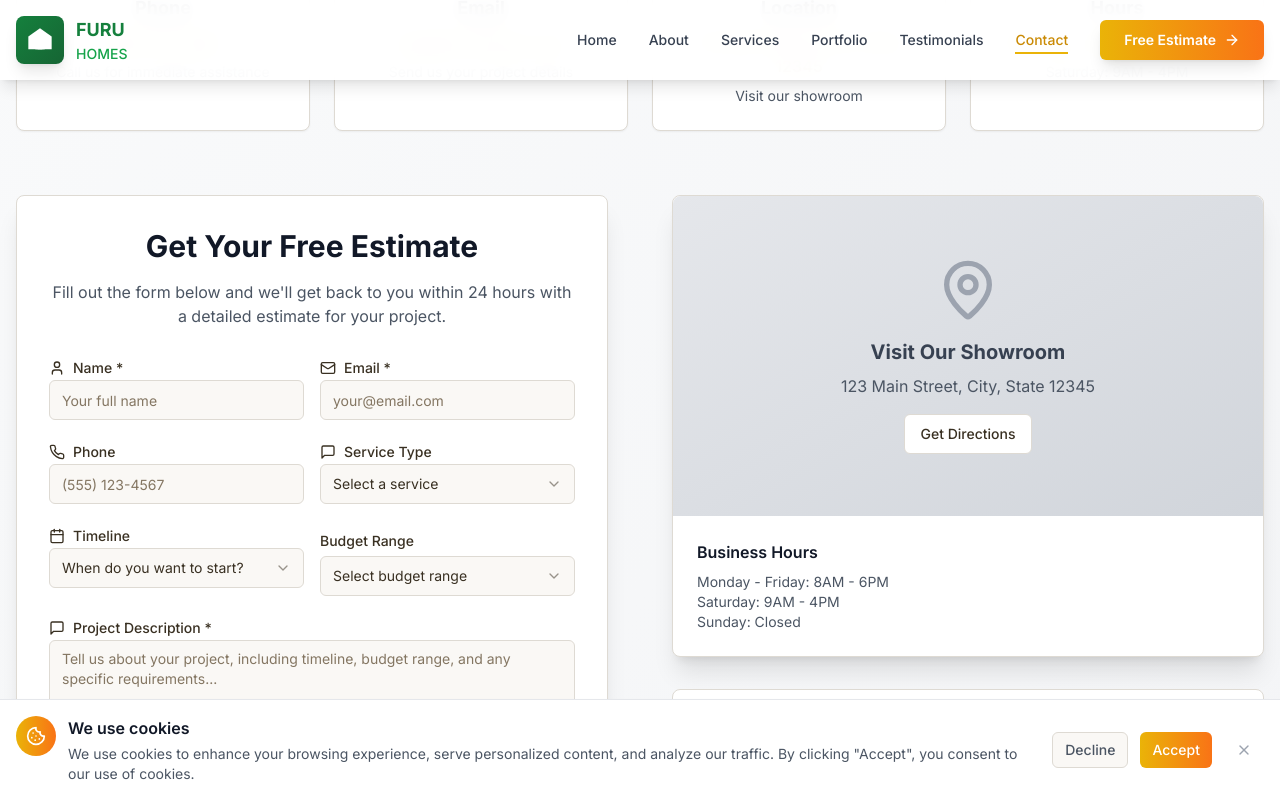
Test: Contact Form › should submit contact form successfully
(page scrolled)
Note: Fill out the form
In the field with id "name": (177, 400) [49,380,304,420], type "John Doe"
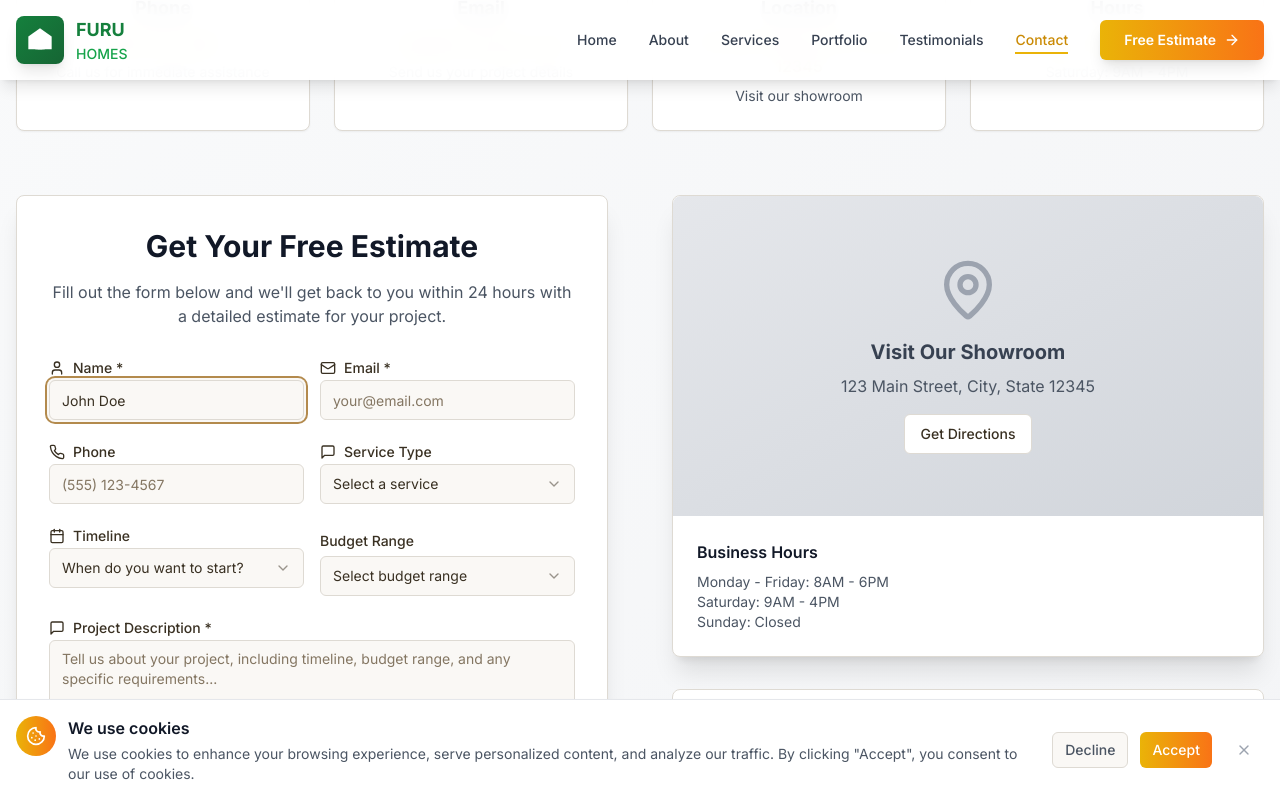
In the field with id "email": (448, 400) [320,380,575,420], type "john@example.com"
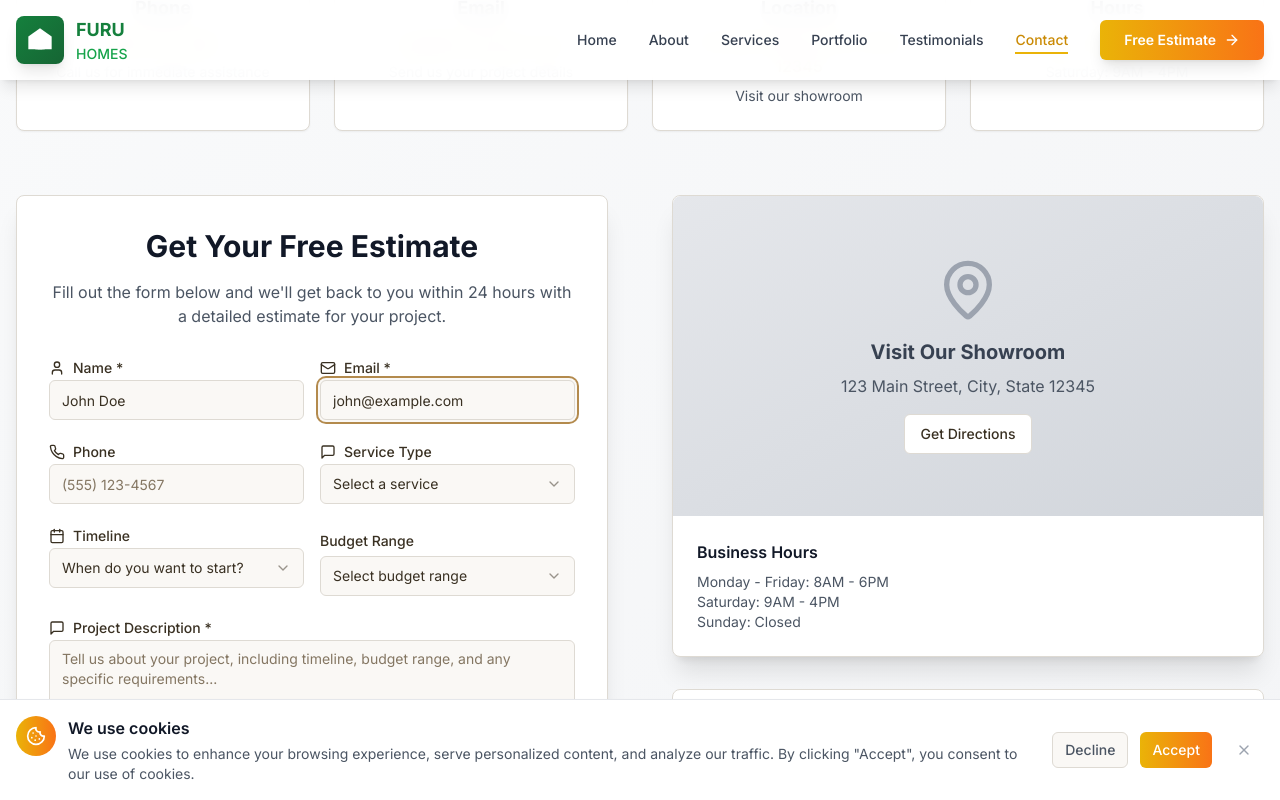
In the field labelled "Phone": (177, 484) [49,464,304,504], type "555-123-4567"
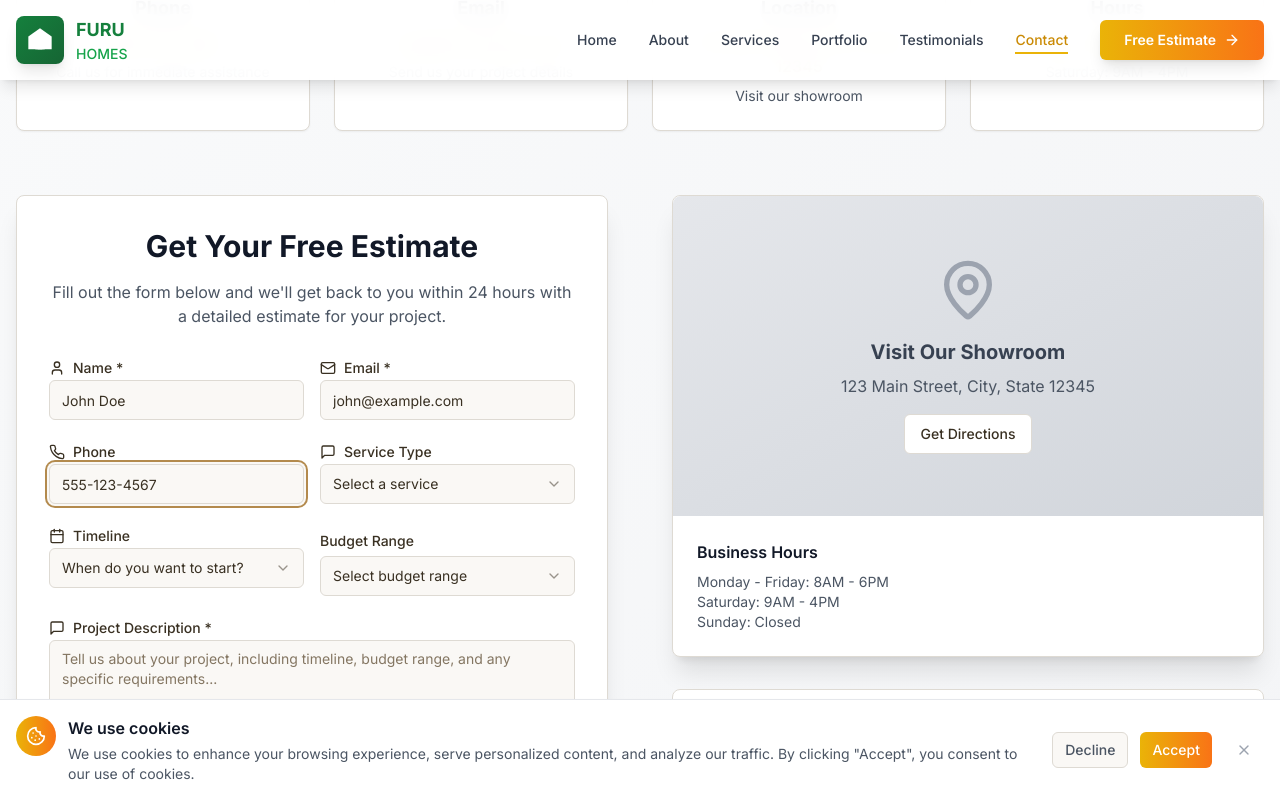
Scroll
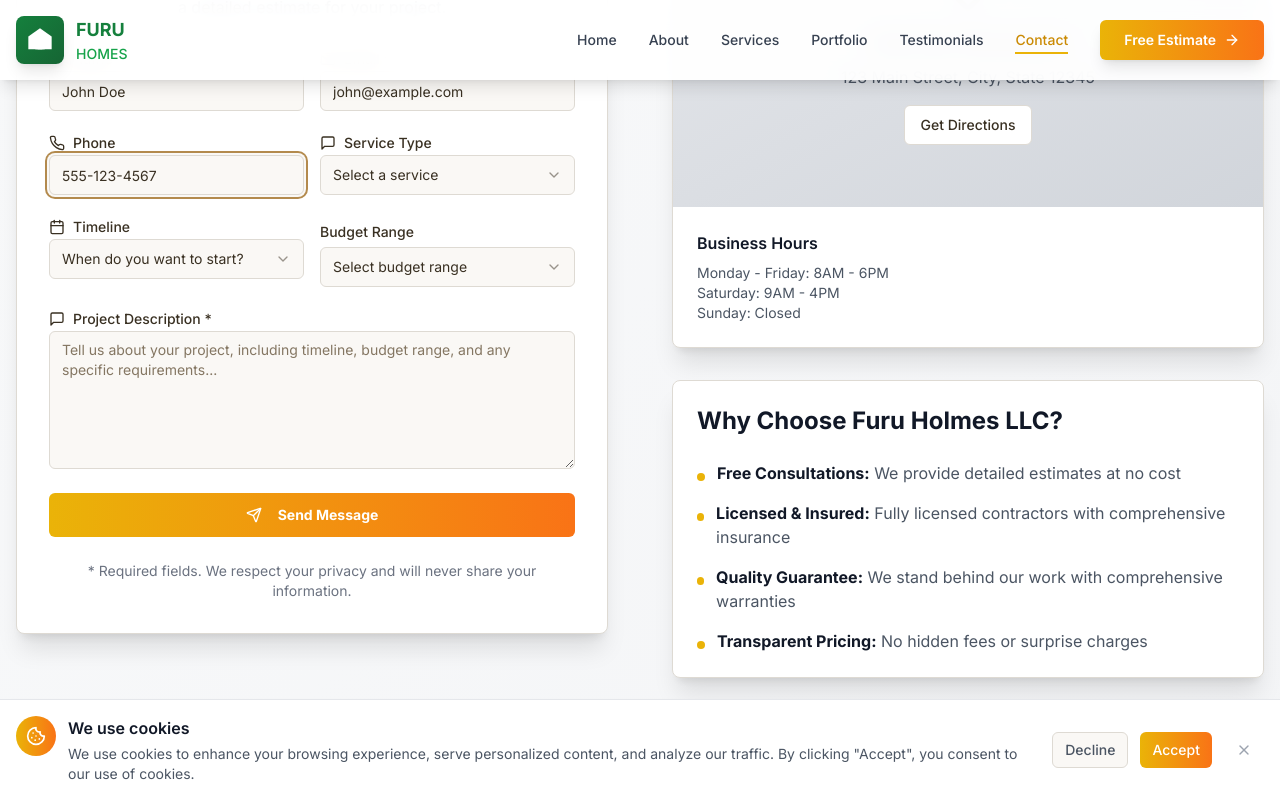
In the text box with id "message": (312, 400) [49,331,575,469], type "I would like to discuss a kitchen renovation project."
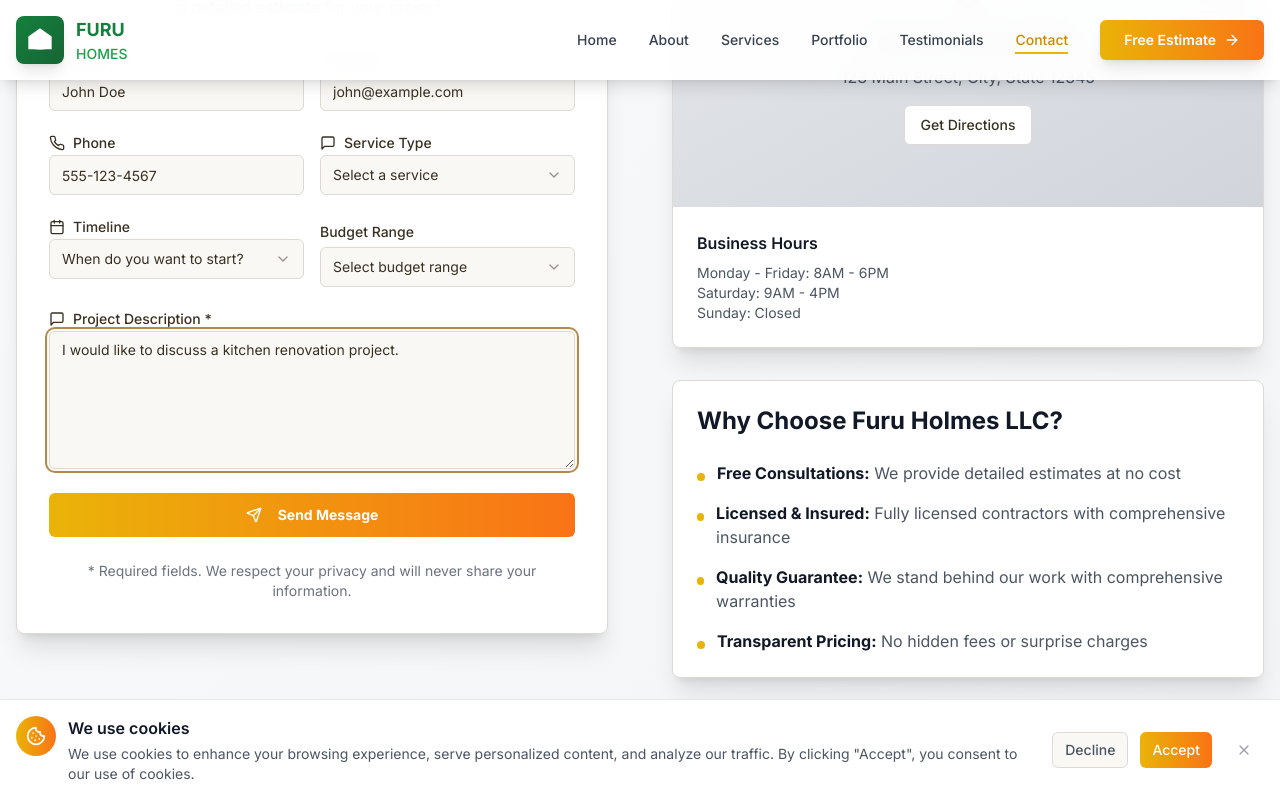
Note: Submit the form
Click the submit button: (312, 515) [49,493,575,537]
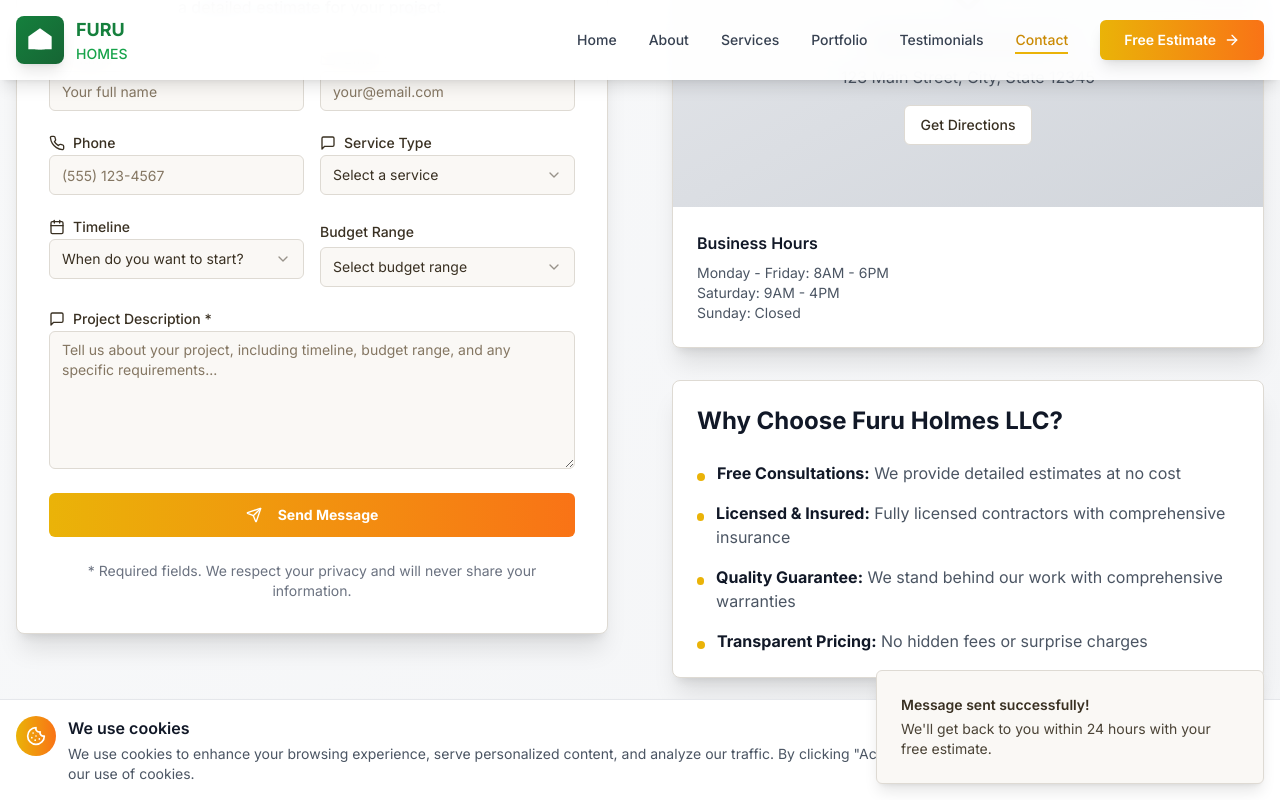
Check: the text "Message sent successfully!" is shown, box [901,696,1090,713]
